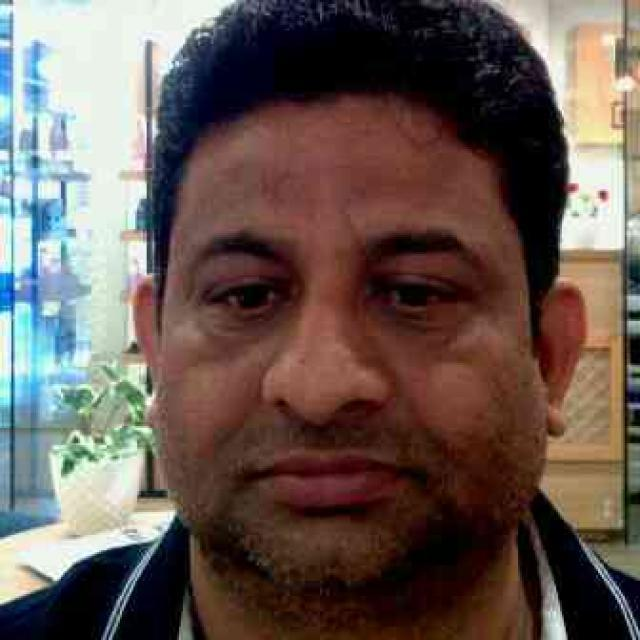puffy_eyes: (377, 316, 462, 348), (195, 315, 283, 341)
